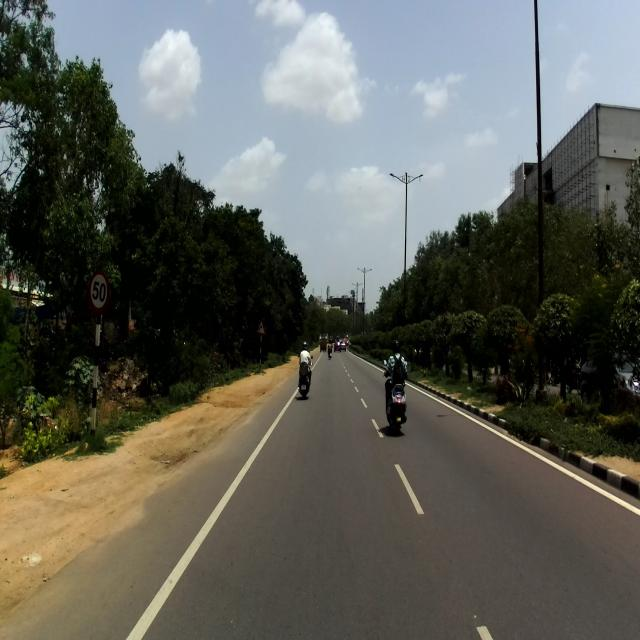car: (580, 346, 640, 407)
scooter: (381, 354, 411, 432), (296, 348, 313, 400)
